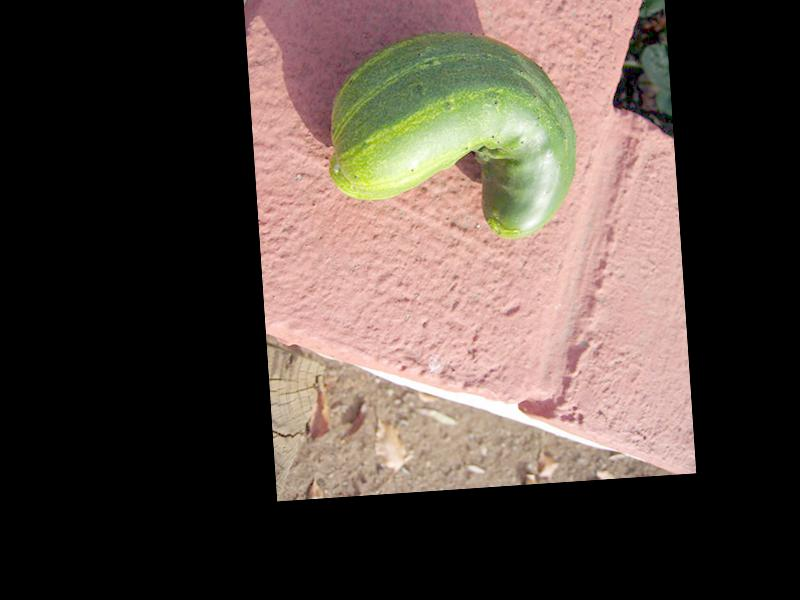Cucumber: (322, 25, 582, 253)
